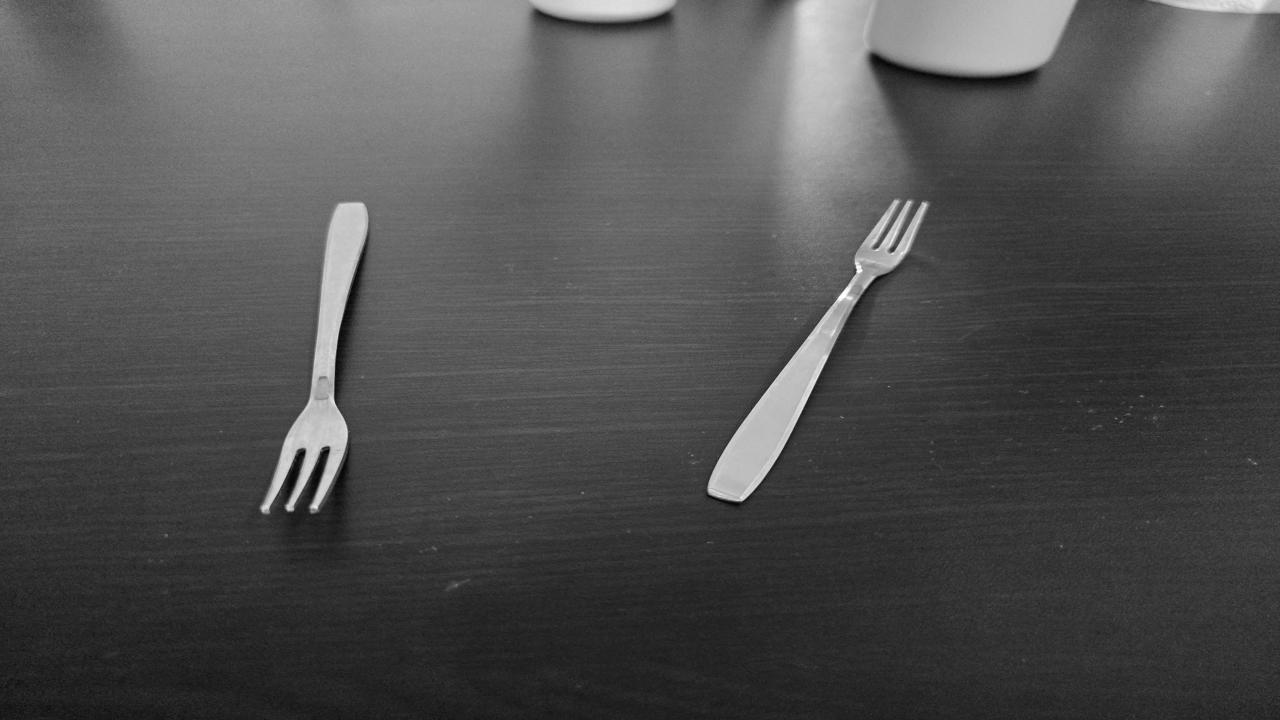fork: (708, 195, 929, 503), (256, 193, 374, 522)
